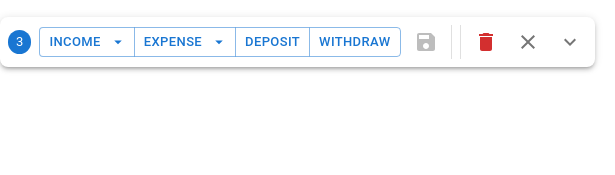
Test: CompactActionBar › Type selection › opens income menu when income button is clicked
Click the button with test id "income-button": (87, 42) [40, 27, 135, 57]
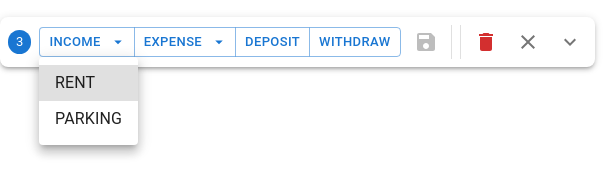
Now the element with test id "income-menu" is shown, box [39, 57, 138, 145]
